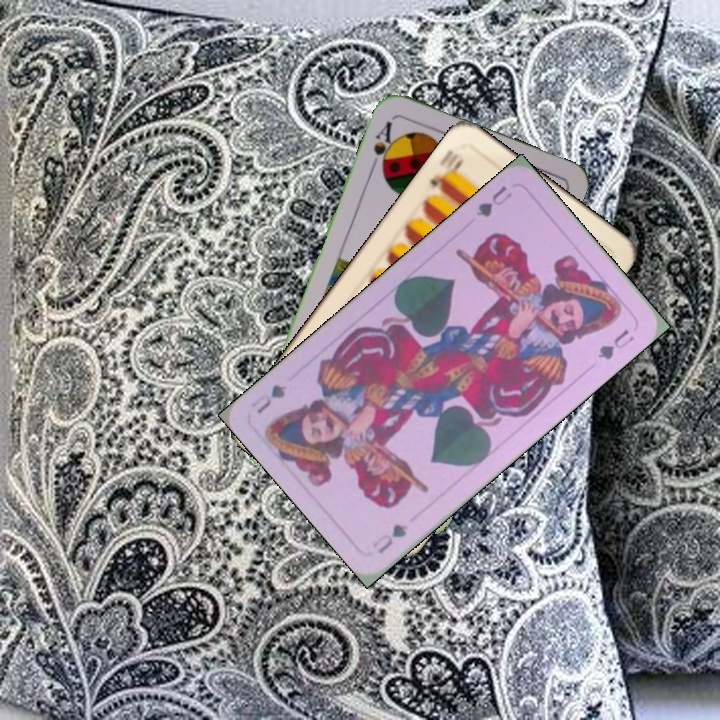E10: (425, 145, 466, 194)
GU: (471, 181, 515, 220), (368, 520, 411, 557)
SA: (366, 116, 399, 175)
